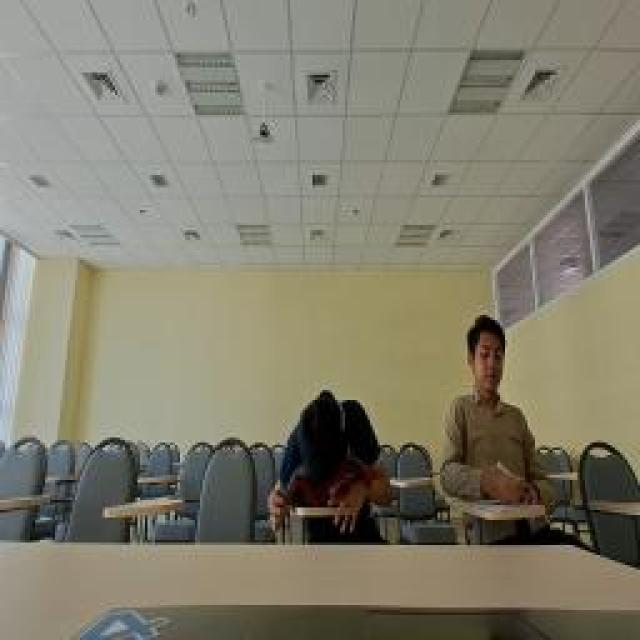sleep: (267, 385, 395, 525)
study: (440, 312, 555, 502)
